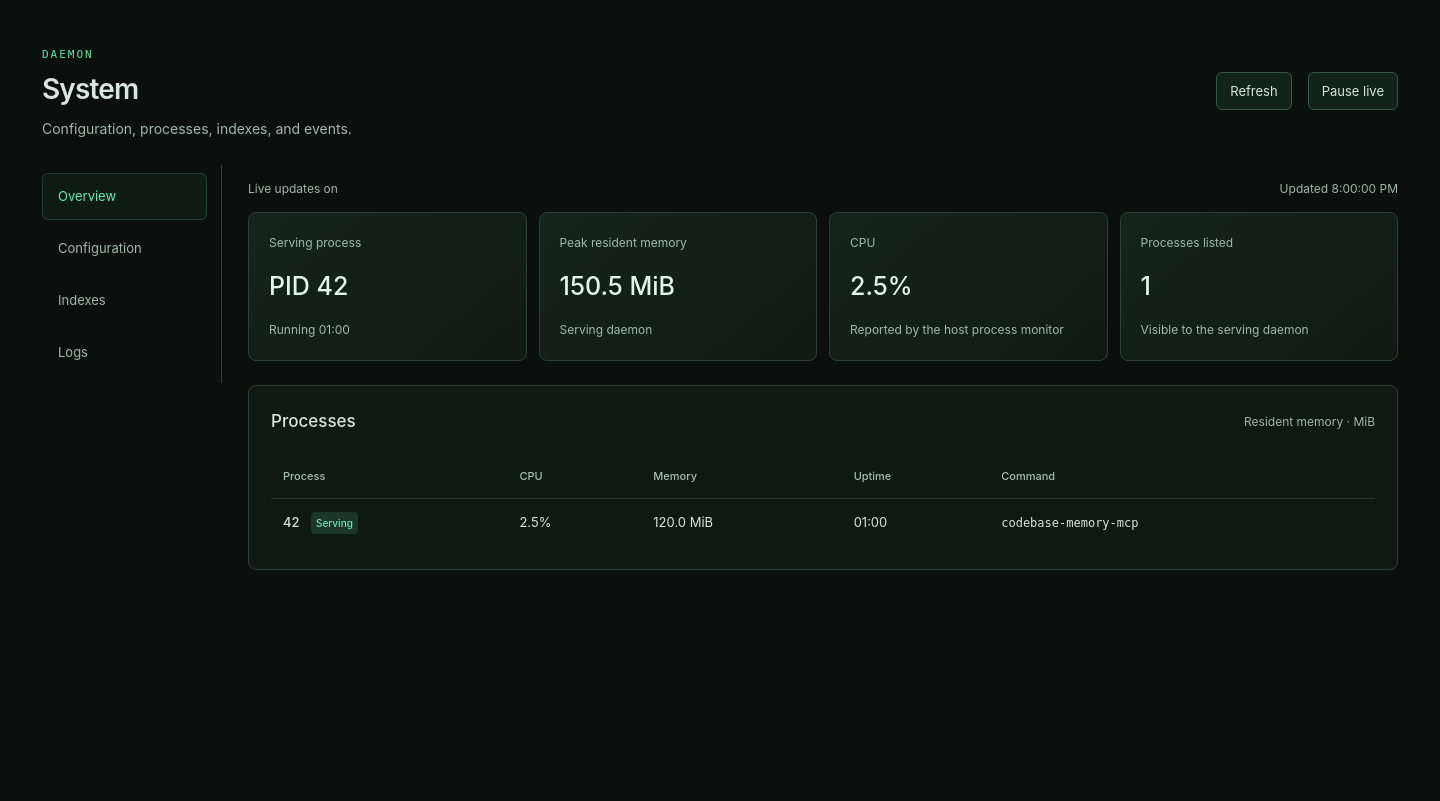
Test: System workspace › fetches errors from retained history rather than filtering the latest 200 info lines
Click the tab "Logs".
click(124, 352)  # box [42,329,207,375]
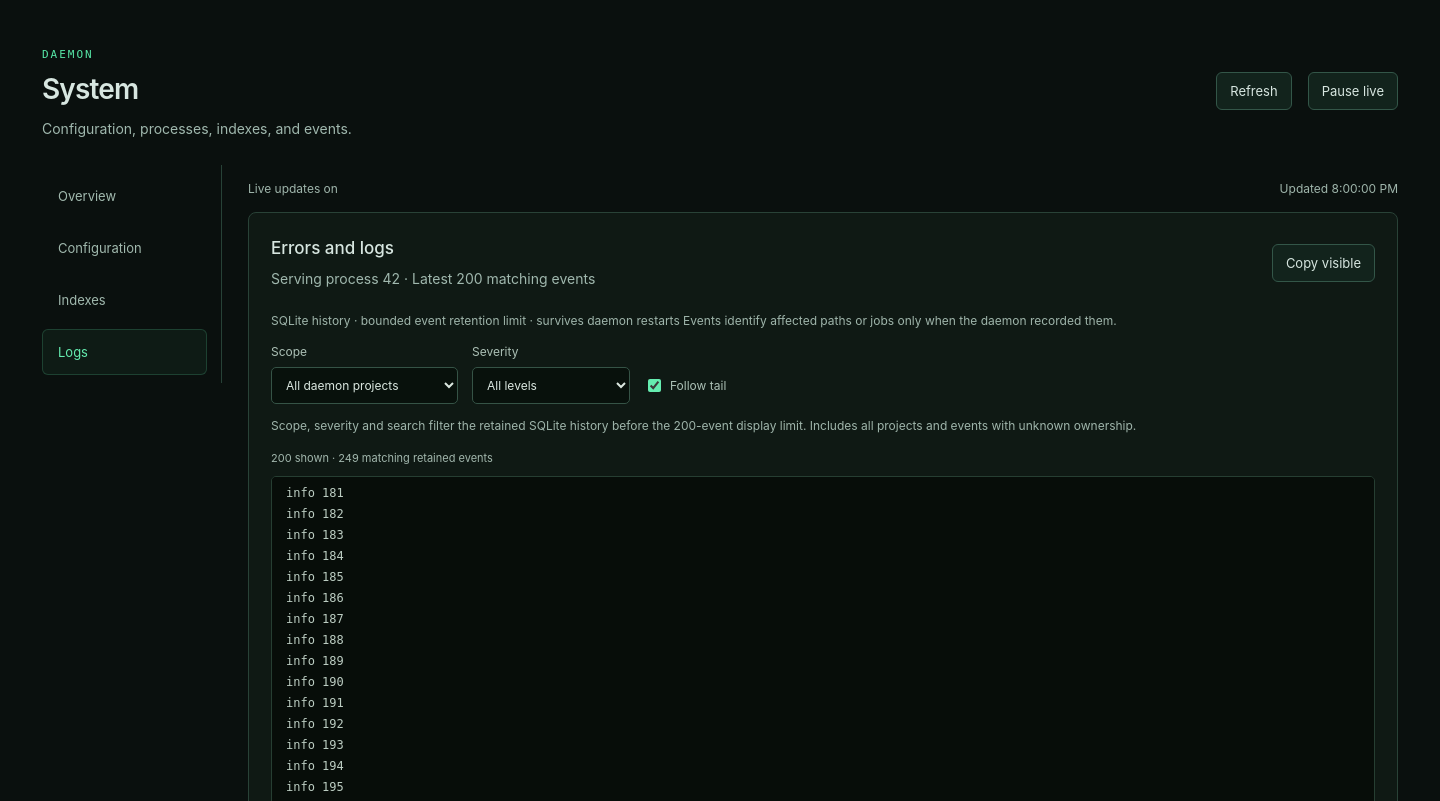
Select "Errors" in the dropdown named "Log severity" at {"x": 551, "y": 386}, box [472,367,630,404]
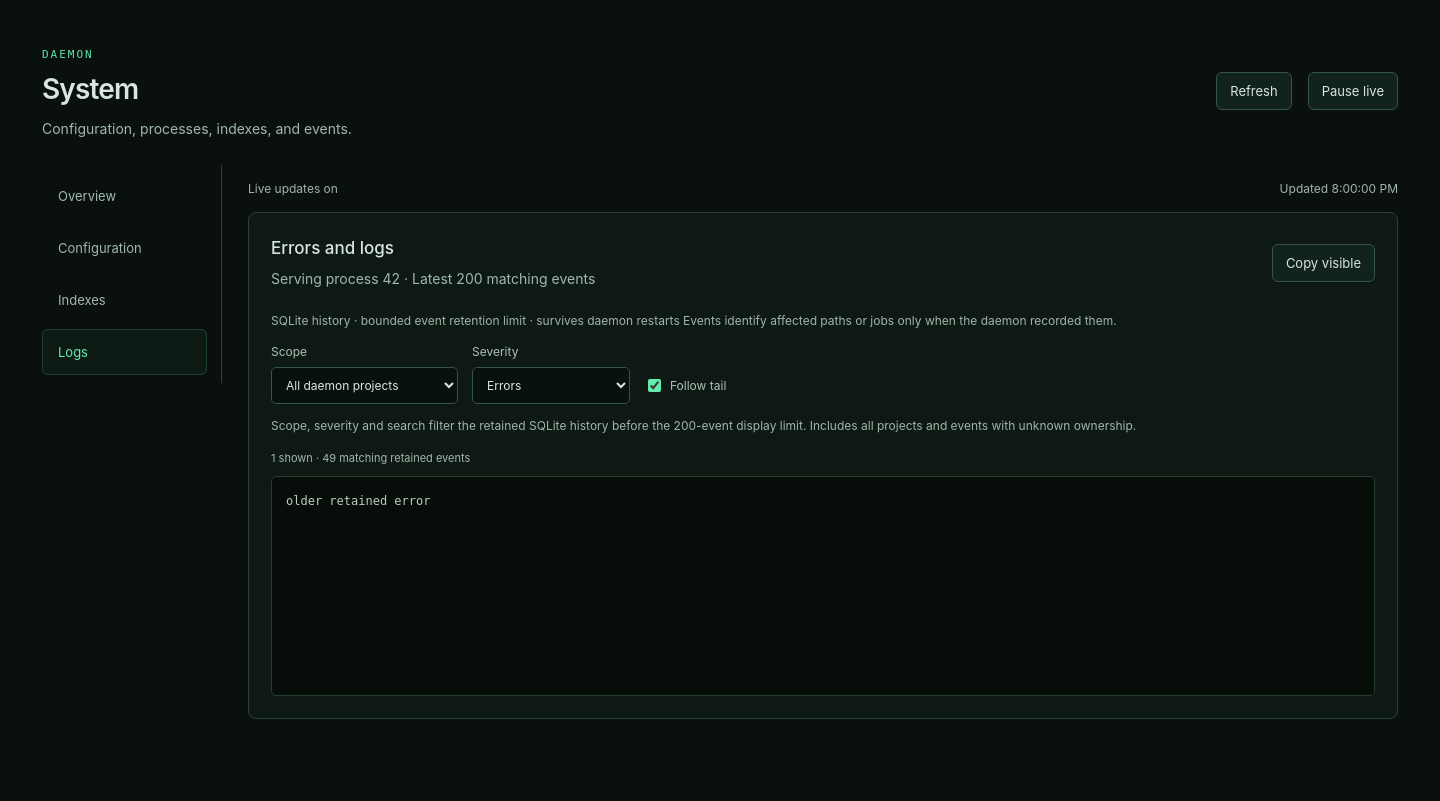
Check: the text "49 matching retained events" is shown, box [271,450,470,468]
Check: the button "Copy visible" is shown
Check: the element with class "system-log" reads "older retained error", box [286,494,430,508]
Click the button "Copy visible".
click(1323, 263)  # box [1272,244,1375,282]
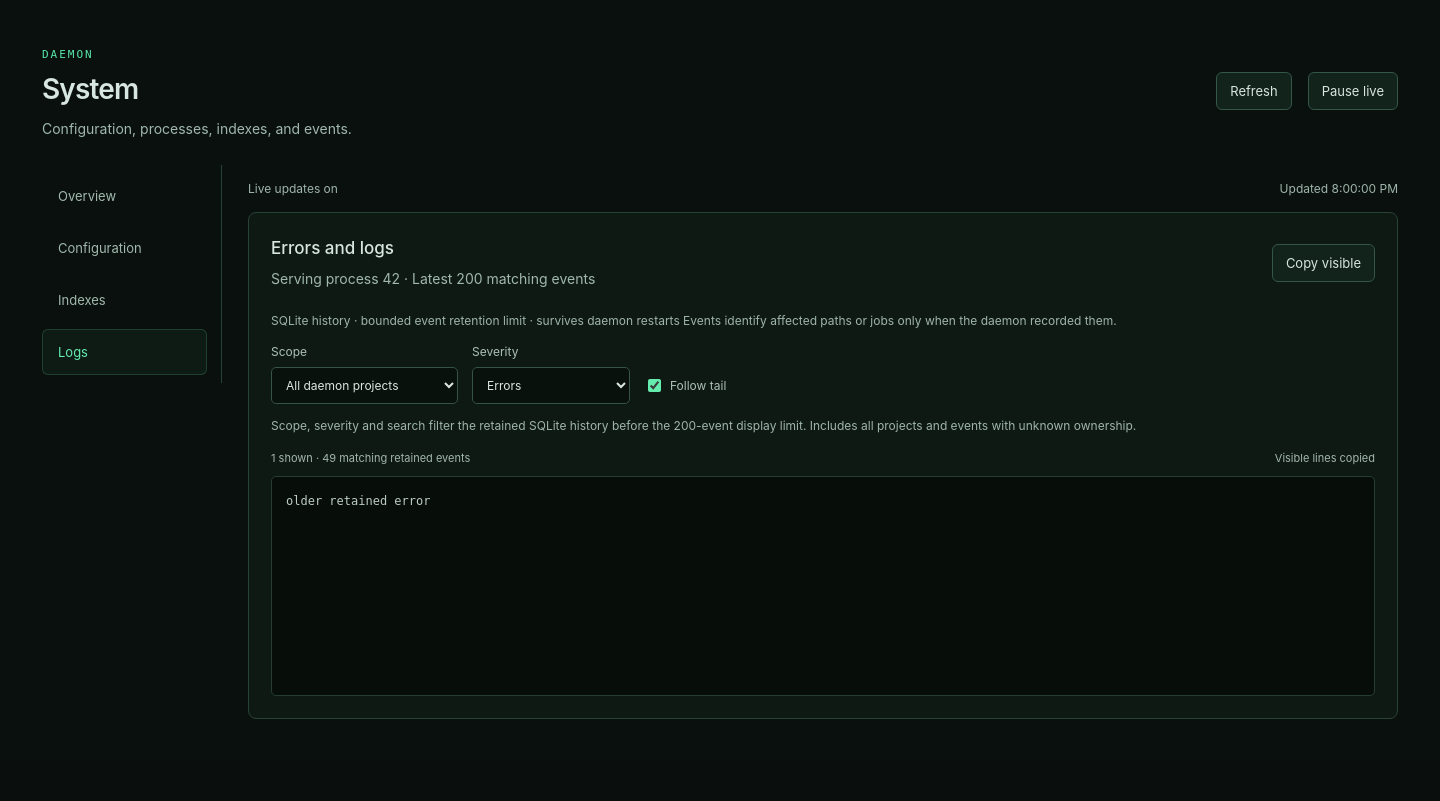
Check: the message "Visible lines copied" is shown, box [1275,450,1375,468]
